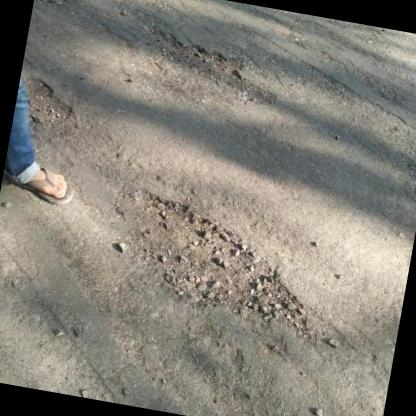pothole: (109, 183, 332, 342), (144, 26, 250, 86), (19, 73, 80, 132), (33, 0, 82, 9)
